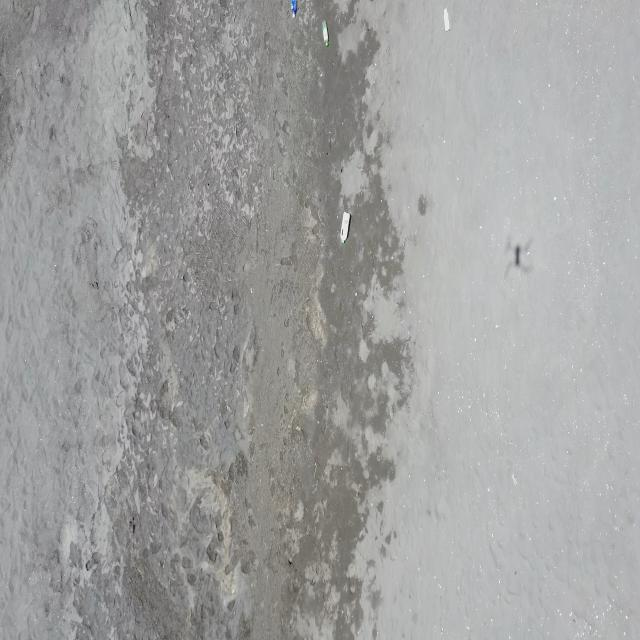plastic-bottle: (340, 210, 351, 243), (322, 20, 330, 48), (444, 8, 451, 33), (290, 0, 298, 19)
